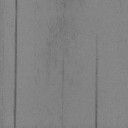surface scratch: (13, 0, 18, 128), (94, 36, 98, 128), (61, 60, 64, 92)
